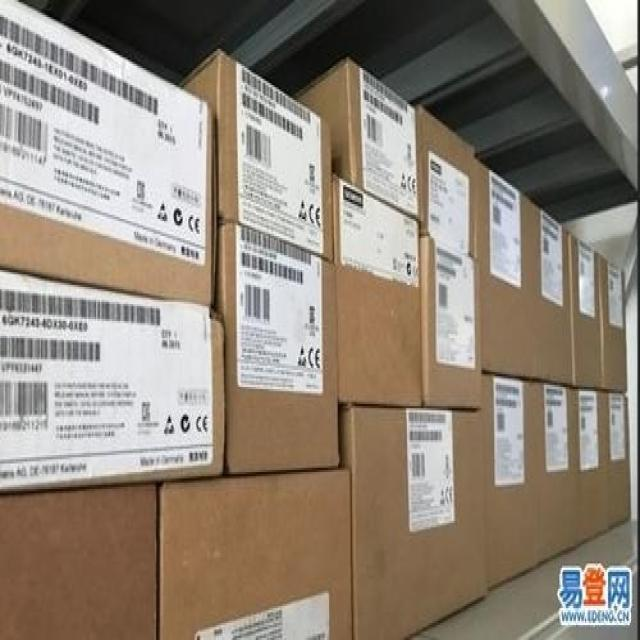box: (0, 268, 225, 491), (155, 449, 352, 640), (337, 408, 488, 640), (180, 51, 334, 262), (212, 221, 338, 474), (0, 481, 156, 640), (332, 176, 424, 404), (294, 57, 420, 221), (476, 157, 536, 376), (483, 372, 541, 589), (420, 236, 483, 408), (419, 106, 477, 257), (538, 381, 582, 561), (534, 202, 573, 387), (568, 225, 604, 393), (575, 389, 608, 544), (600, 255, 628, 391), (607, 391, 628, 527)
